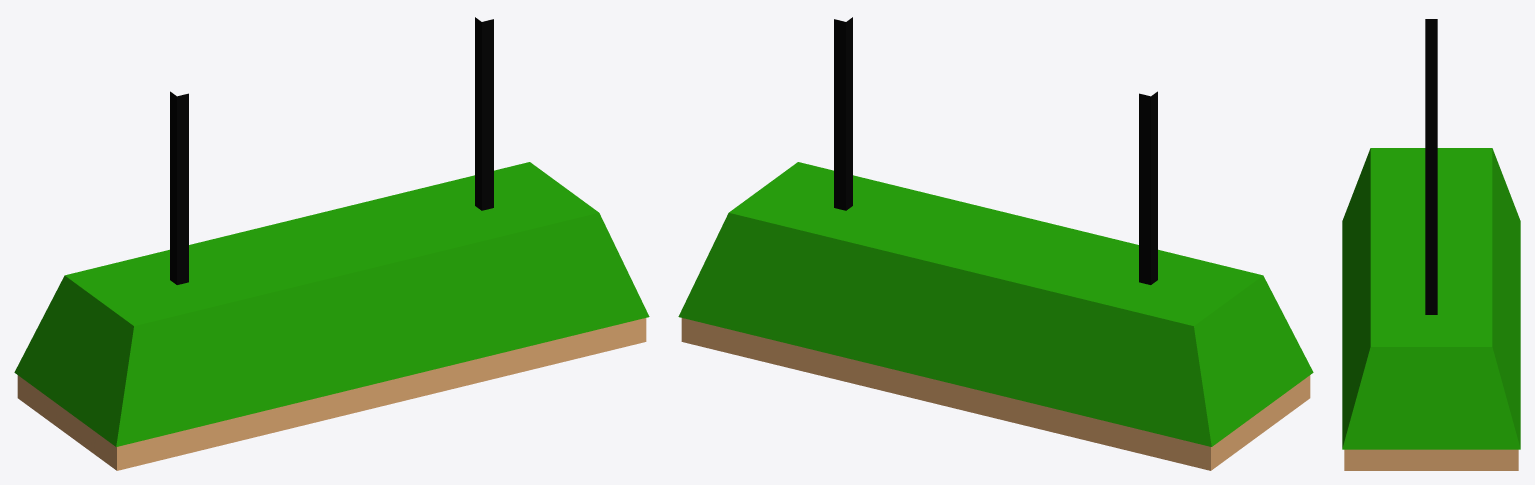
Rendered from lamp.glb.
3 renders of one model, left to right at view 1: azimuth 30°, elevation 25°; view 2: azimuth 150°, elevation 25°; view 3: azimuth 270°, elevation 25°, orthographic. The views are drawn at different scales.
Visible parts, largest first — view 1: Lamp; view 2: Lamp; view 3: Lamp.
Boxes of the visible parts, x1,y1,x2,y2 form: Lamp: [14, 17, 649, 470]; Lamp: [678, 17, 1313, 470]; Lamp: [1342, 19, 1520, 470].
Bounding box in the file's own units: 1.33 × 0.75 × 0.44.
